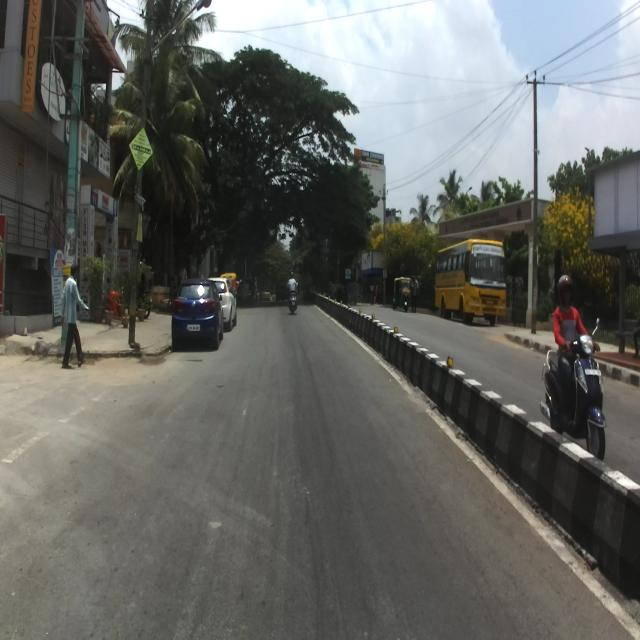car ahead at: (172, 275, 224, 347)
electric pole ahead at: (63, 37, 84, 269)
motorcycle ahead at: (540, 336, 614, 460)
person ahead at: (59, 256, 92, 374)
